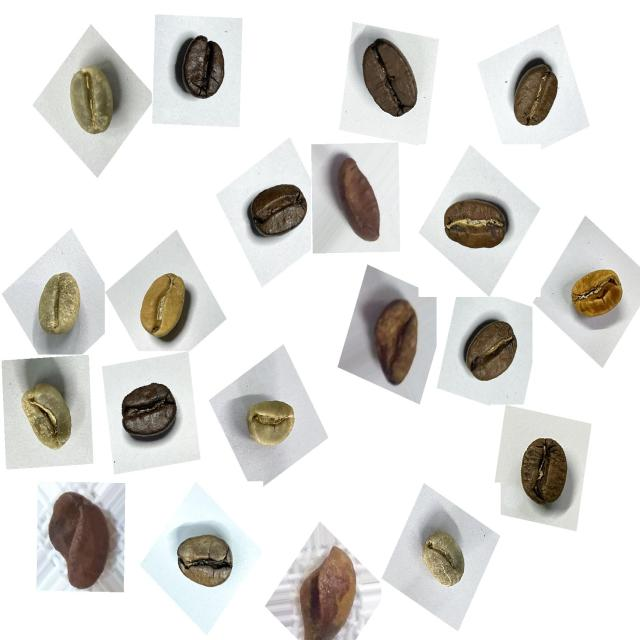bad: (36, 485, 122, 605), (353, 284, 428, 397), (290, 538, 370, 636), (323, 148, 393, 256)
dark: (435, 182, 520, 264), (241, 168, 317, 252), (169, 28, 235, 113)
green: (53, 52, 124, 146), (13, 374, 82, 466), (26, 260, 93, 350), (239, 387, 304, 460)
light: (126, 258, 200, 352), (563, 250, 638, 336), (411, 518, 475, 601)
medium: (349, 36, 427, 131), (508, 427, 580, 517), (454, 310, 528, 396), (167, 520, 242, 602), (112, 372, 186, 454), (500, 53, 570, 139)
